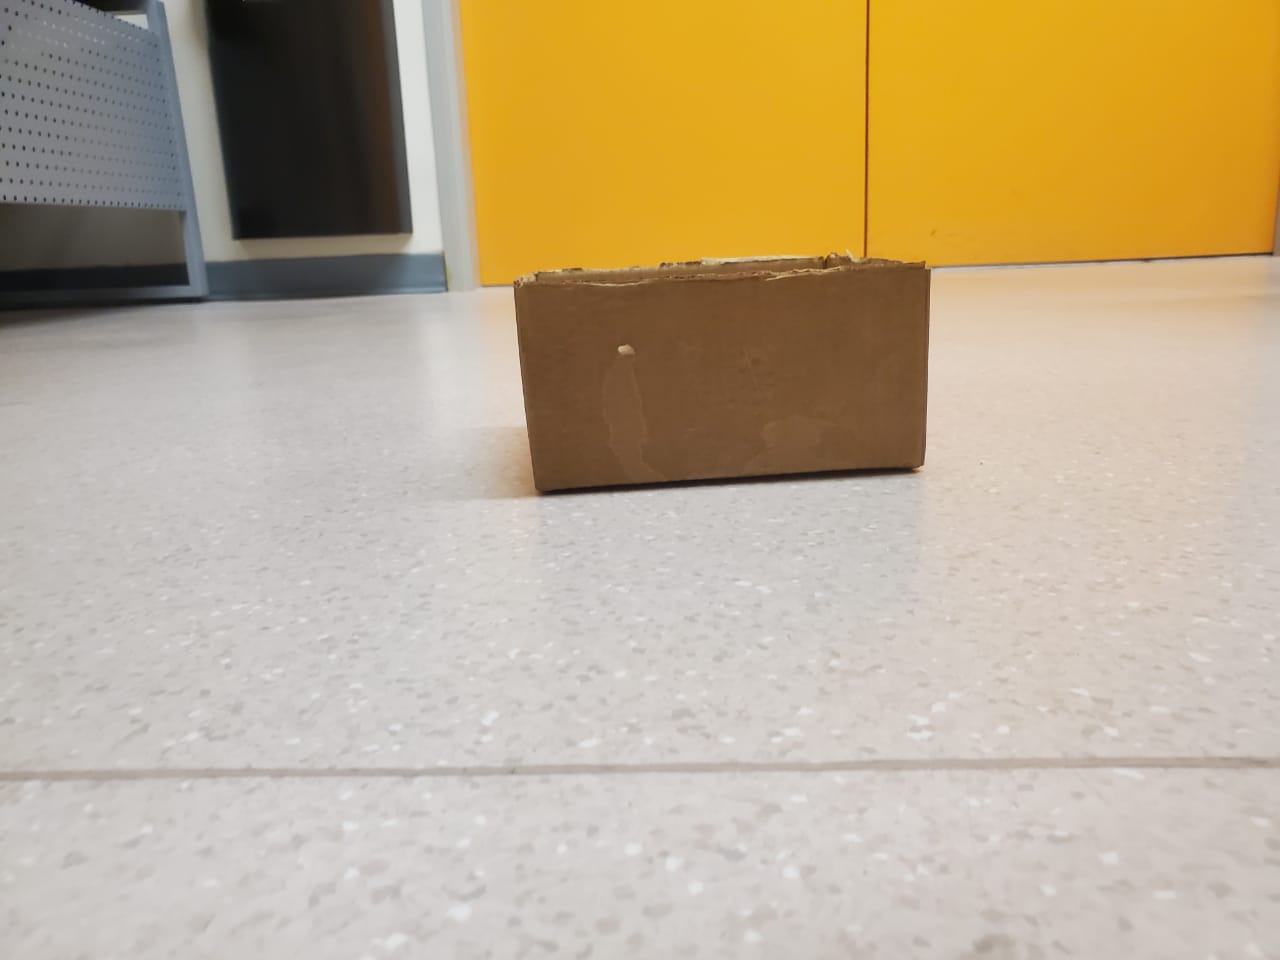CBox: (514, 247, 947, 503)
